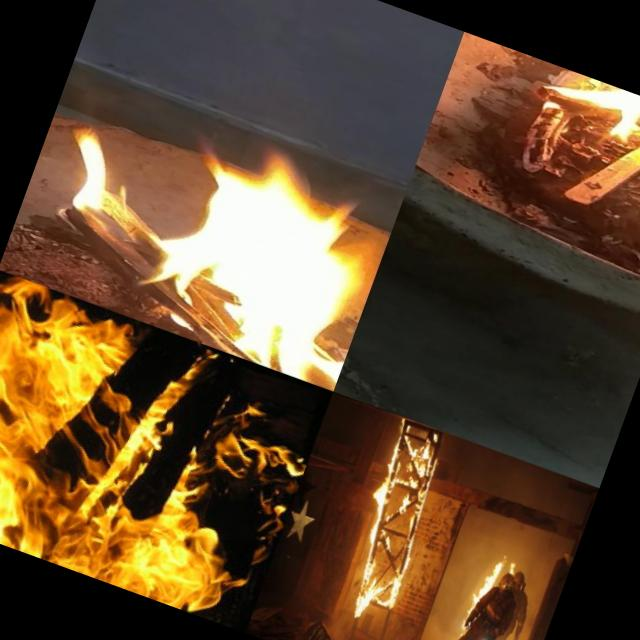fire: (19, 78, 406, 392), (0, 269, 333, 633), (331, 438, 448, 629), (510, 55, 640, 177), (457, 550, 520, 640)
